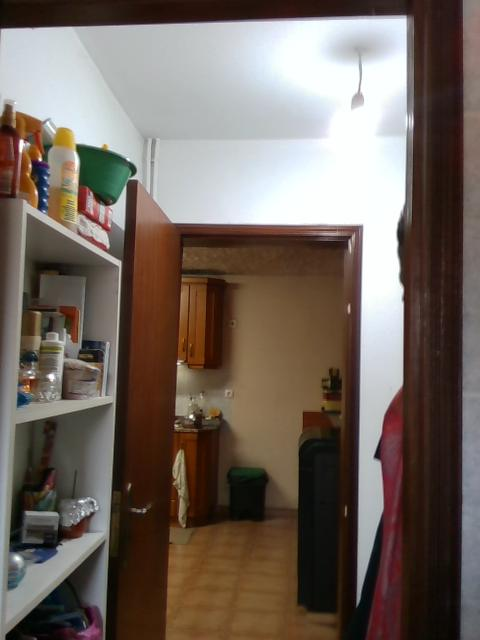open_door: (136, 220, 363, 639)
